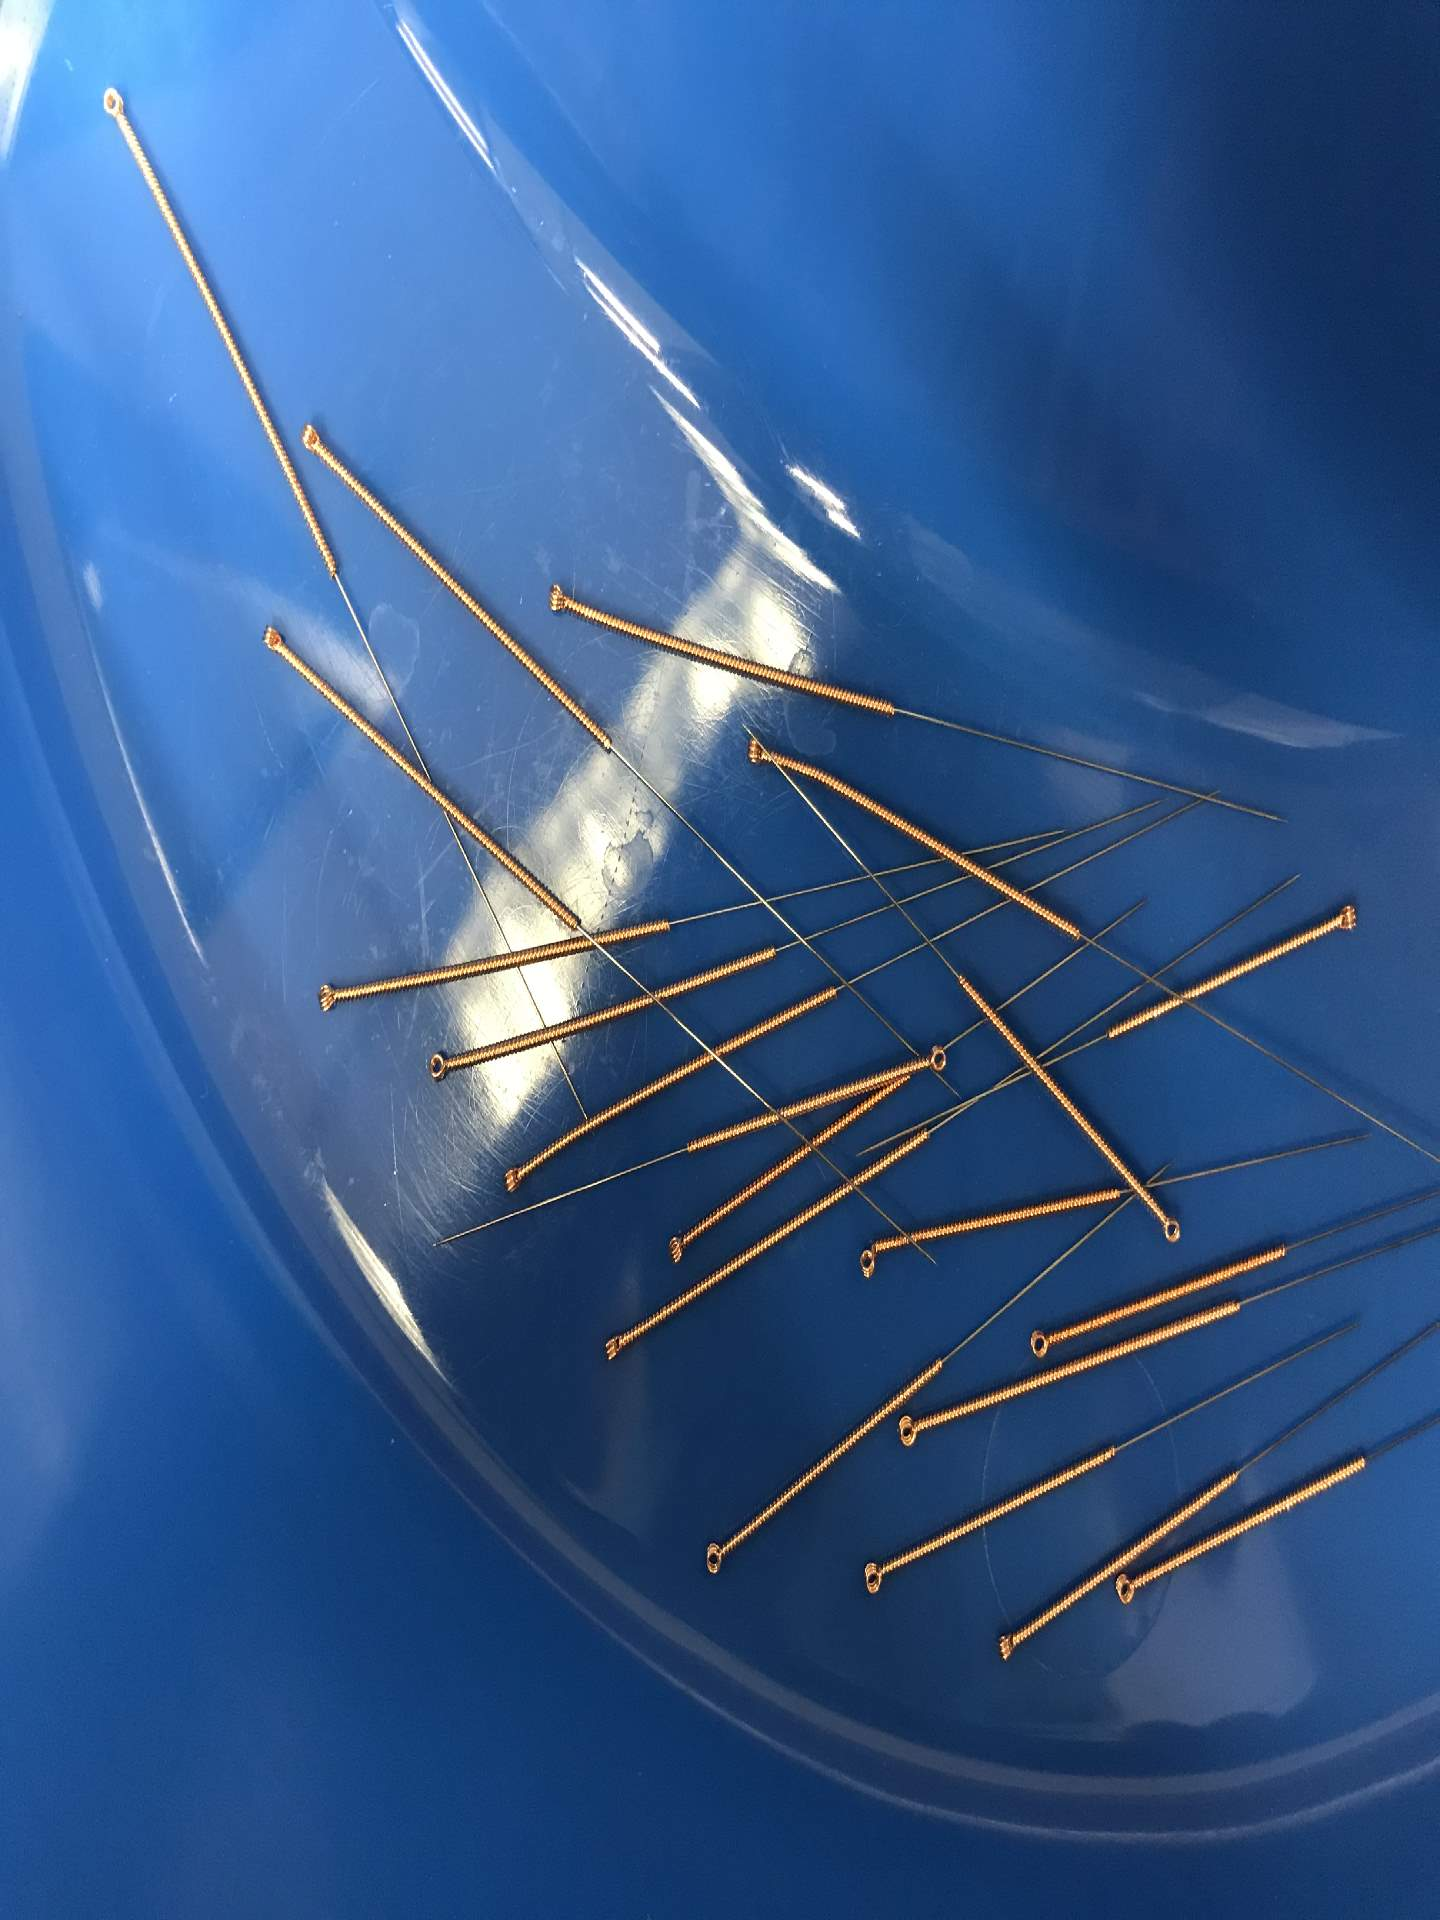needle: (537, 571, 585, 627), (293, 413, 339, 467), (92, 79, 138, 132), (1322, 893, 1367, 943), (853, 1551, 895, 1604), (250, 617, 295, 665), (594, 1318, 638, 1368), (691, 1528, 735, 1578), (306, 975, 352, 1020), (986, 1618, 1029, 1668), (734, 732, 781, 776), (1109, 1566, 1151, 1613), (659, 1222, 699, 1271), (1151, 1200, 1189, 1252), (419, 1042, 461, 1087), (889, 1409, 932, 1454), (850, 1234, 885, 1287), (1019, 1323, 1062, 1365), (914, 1039, 954, 1082), (495, 1154, 532, 1197)
